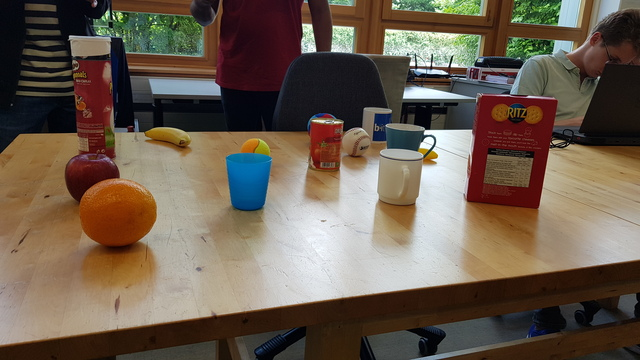001_chips_can: (67, 34, 122, 160)
003_cracker_box: (465, 92, 558, 211)
005_tomato_soup_can: (308, 118, 345, 173)
011_banana: (142, 125, 192, 151)
013_apple: (63, 152, 122, 203)
017_orange: (76, 179, 160, 246)
025_mug: (224, 153, 274, 211), (377, 148, 425, 207), (384, 122, 436, 161), (361, 106, 393, 144)
055_baseball: (342, 127, 372, 159)
056_tennis_ball: (239, 138, 270, 157)
